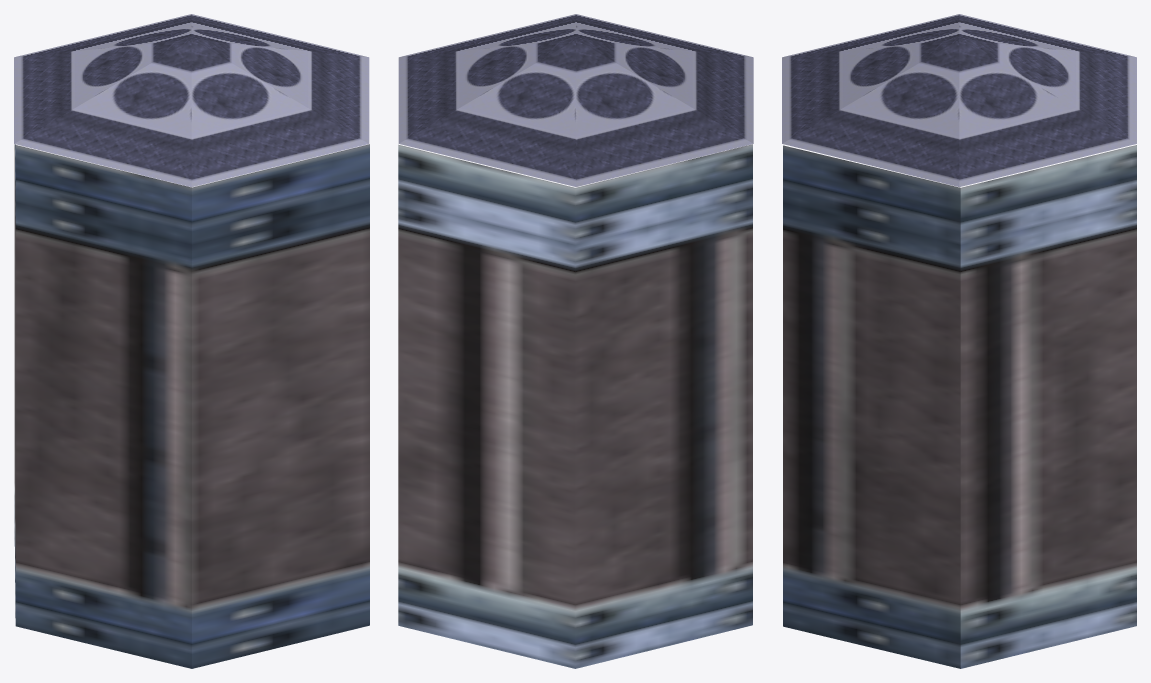
3 views of the same model, side by side, from view 1: azimuth 30°, elevation 25°; view 2: azimuth 150°, elevation 25°; view 3: azimuth 270°, elevation 25° (orthographic).
Visible parts, largest first — view 1: Cylinder29; view 2: Cylinder29; view 3: Cylinder29.
Part boxes in pixels (left/top/right/bottom): Cylinder29: left=14, top=14, right=369, bottom=668; Cylinder29: left=398, top=14, right=753, bottom=668; Cylinder29: left=782, top=14, right=1136, bottom=668.
Bounding box in the file's own units: 596 × 871 × 516.
2 materials, 2 textured.
